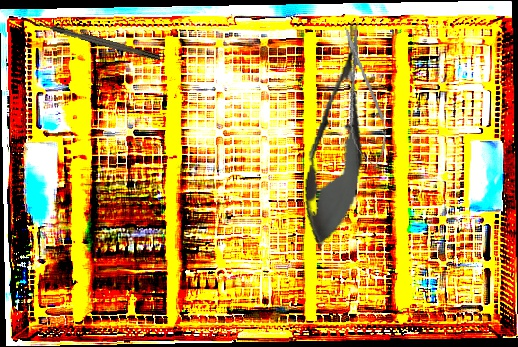Hook Surgical: (30, 18, 161, 62)
Micro Scissor: (293, 16, 383, 254), (332, 23, 394, 172)
